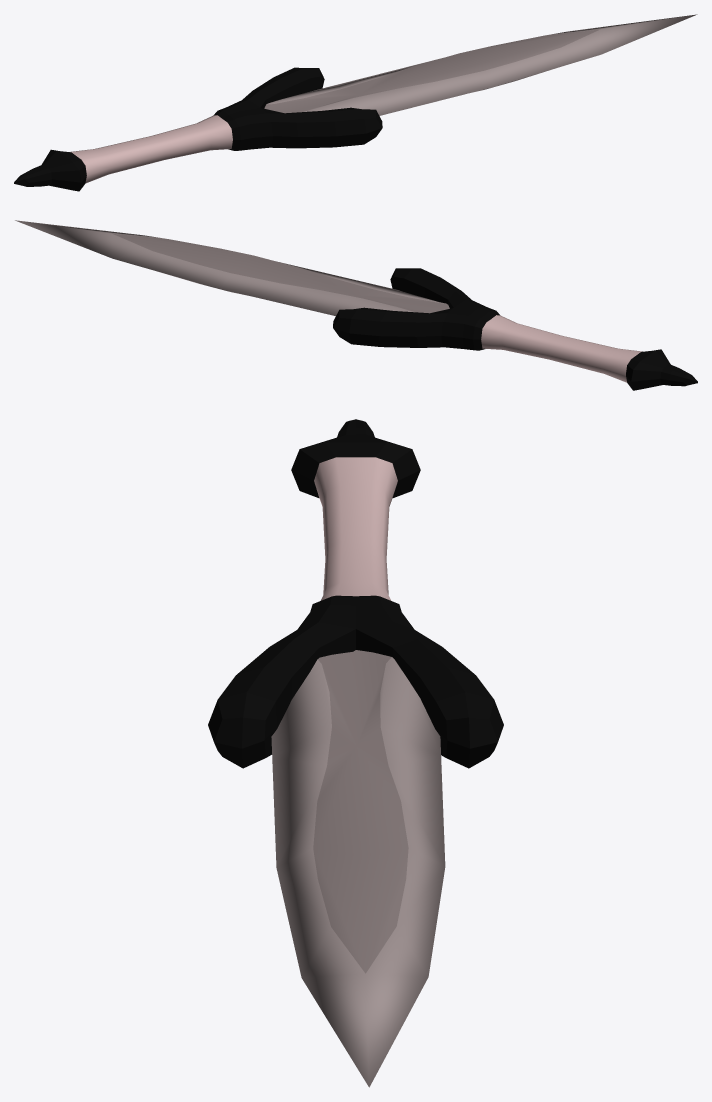
The model's file is dagger fbx.fbx.
3 renders of one model, top to bottom at view 1: azimuth 30°, elevation 25°; view 2: azimuth 150°, elevation 25°; view 3: azimuth 270°, elevation 25°, orthographic. The views are drawn at different scales.
Parts seen in each view (by area): view 1: Box001, Plane001; view 2: Box001, Plane001; view 3: Plane001, Box001.
Part boxes in pixels (left/top/right/bottom): Box001: left=14, top=67, right=382, bottom=191; Plane001: left=264, top=14, right=697, bottom=115; Box001: left=333, top=268, right=697, bottom=390; Plane001: left=15, top=220, right=449, bottom=315; Plane001: left=271, top=650, right=445, bottom=1087; Box001: left=208, top=419, right=503, bottom=768.
Bounding box in the file's own units: 191 × 9.14 × 36.08.
